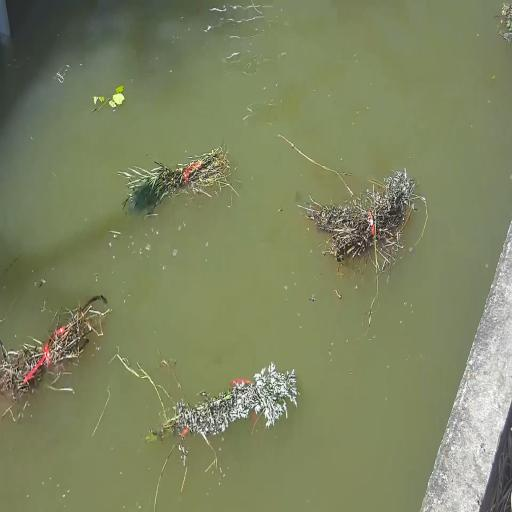twig: (144, 367, 309, 445), (0, 300, 98, 410), (314, 168, 416, 268), (120, 151, 237, 215), (92, 82, 133, 129), (489, 3, 512, 55)
